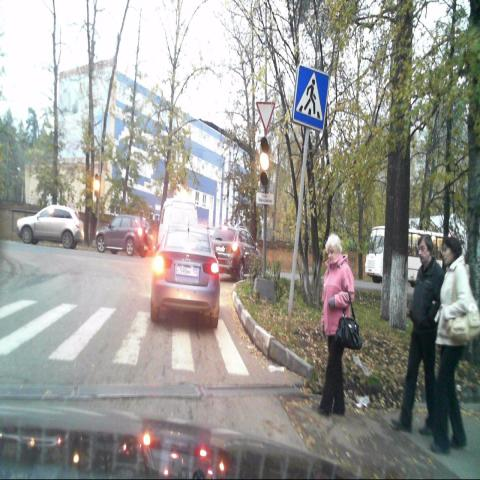2_4: (255, 100, 275, 134)
